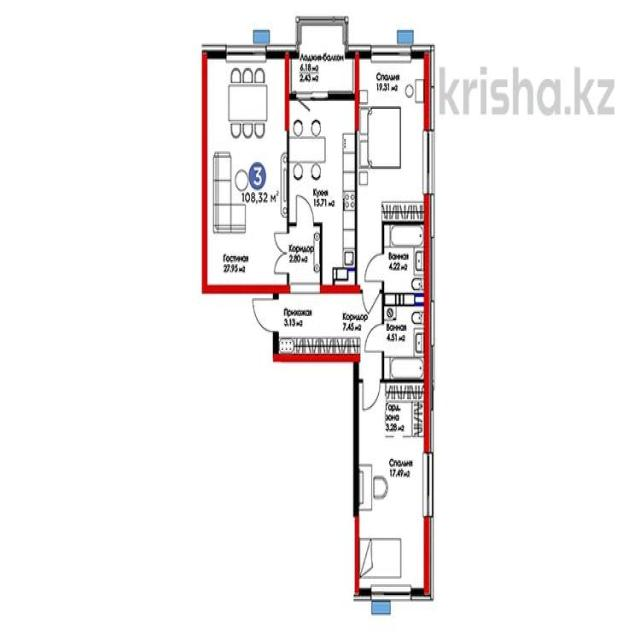balcony: (298, 28, 346, 94)
bathroom: (384, 303, 426, 377), (384, 224, 426, 292)
hallway: (323, 293, 381, 352), (277, 295, 321, 353), (289, 227, 320, 282)
kitchen: (288, 99, 356, 221)
living_room: (205, 58, 286, 287), (359, 58, 425, 220), (358, 443, 426, 590)
other: (381, 381, 424, 438)
